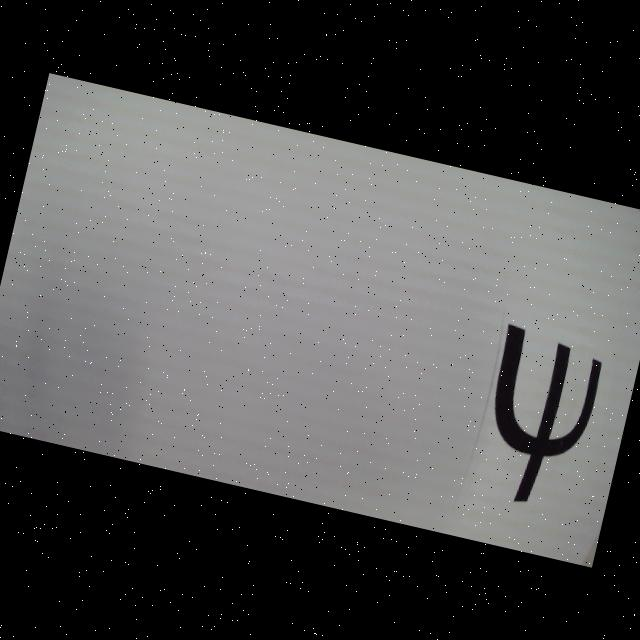PSI: (469, 321, 608, 514)
